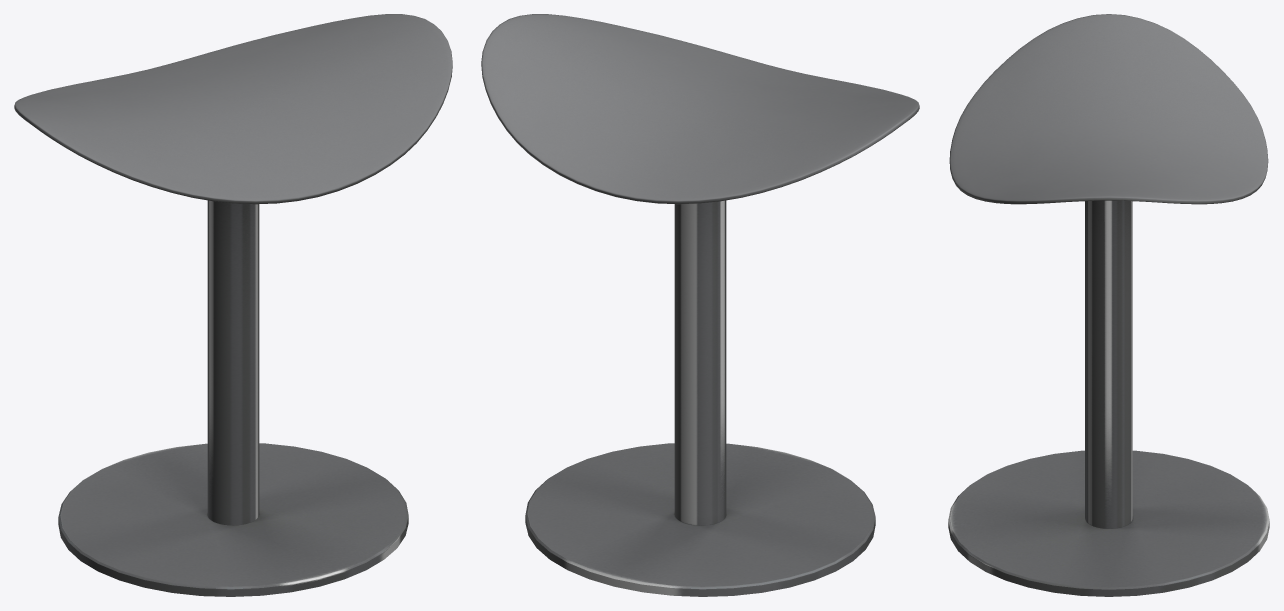
Rendered from coma_hocker_alu_white_laquered_metal.glb.
3 renders of one model, left to right at view 1: azimuth 30°, elevation 25°; view 2: azimuth 150°, elevation 25°; view 3: azimuth 270°, elevation 25°, orthographic. The views are drawn at different scales.
Visible parts, largest first — view 1: coma_hocker_alu-grey; view 2: coma_hocker_alu-grey; view 3: coma_hocker_alu-grey.
Part boxes in pixels (x1,y1,x2,y2): coma_hocker_alu-grey: (14, 14, 452, 596); coma_hocker_alu-grey: (481, 14, 919, 596); coma_hocker_alu-grey: (948, 14, 1269, 596).
Size of the model in its own units: 0.4209 by 0.4502 by 0.311.
1 material, 1 textured.
